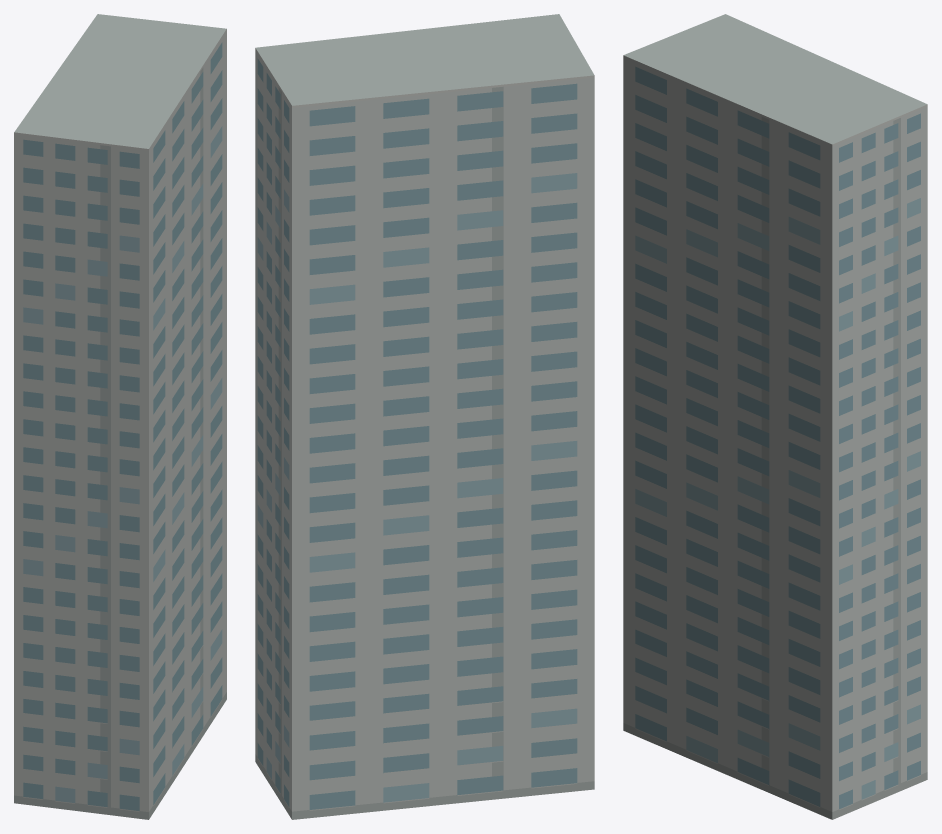
File: residential-59b3d23f-636e-43ce-bf8c-e0671d039a83.glb
3 renders of one model, left to right at view 1: azimuth 30°, elevation 25°; view 2: azimuth 150°, elevation 25°; view 3: azimuth 270°, elevation 25°, orthographic. The views are drawn at different scales.
Visible parts, largest first — view 1: residential-59b3d23f-636e-43ce-bf8c-e0671d039a83.tmp; view 2: residential-59b3d23f-636e-43ce-bf8c-e0671d039a83.tmp; view 3: residential-59b3d23f-636e-43ce-bf8c-e0671d039a83.tmp.
Boxes of the visible parts, x1,y1,x2,y2 form: residential-59b3d23f-636e-43ce-bf8c-e0671d039a83.tmp: (14, 14, 226, 819); residential-59b3d23f-636e-43ce-bf8c-e0671d039a83.tmp: (255, 14, 594, 819); residential-59b3d23f-636e-43ce-bf8c-e0671d039a83.tmp: (623, 14, 927, 819).
Size of the model in its own units: 33.17 by 80 by 32.68.
